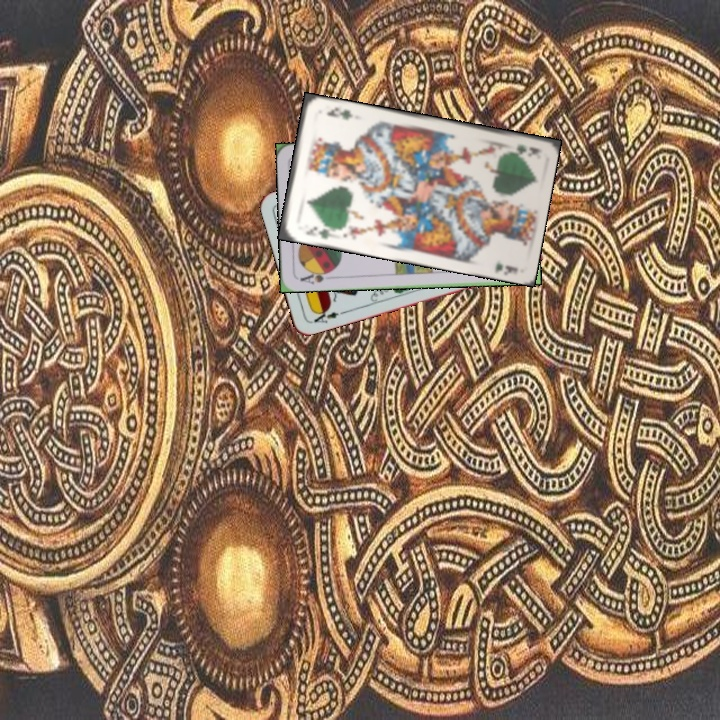EA: (309, 304, 347, 326)
GK: (301, 222, 336, 242), (503, 140, 543, 157)
SA: (296, 266, 335, 286)
